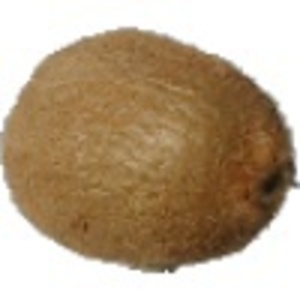kiwi: (1, 26, 300, 275)
